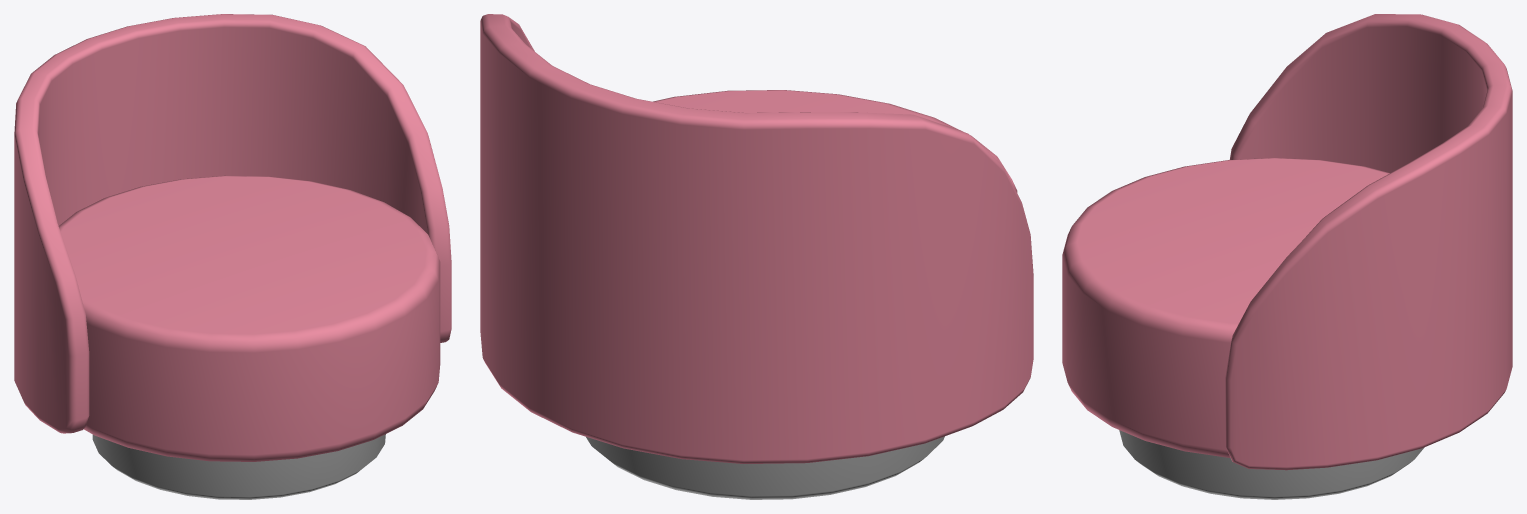
Rendered from Armchair_2.glb.
3 views of the same model, side by side, from view 1: azimuth 30°, elevation 25°; view 2: azimuth 150°, elevation 25°; view 3: azimuth 270°, elevation 25° (orthographic). The views are drawn at different scales.
Visible parts, largest first — view 1: Armchair_2; view 2: Armchair_2; view 3: Armchair_2.
Boxes of the visible parts, left/top/right/bottom form: Armchair_2: left=14, top=14, right=451, bottom=499; Armchair_2: left=480, top=14, right=1033, bottom=499; Armchair_2: left=1062, top=14, right=1512, bottom=499.
Bounding box in the file's own units: 1.2 × 0.9788 × 1.14.
Materials: 1 (1 with a texture image).
